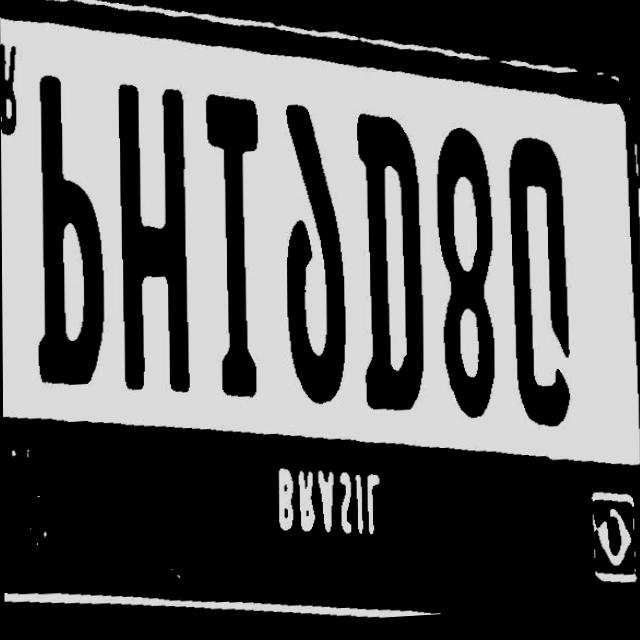0: (502, 143, 573, 446)
8: (422, 136, 499, 446)
9: (276, 104, 347, 427)
d: (350, 110, 428, 435)
h: (118, 86, 196, 415)
i: (205, 95, 267, 419)
p: (38, 76, 109, 405)
